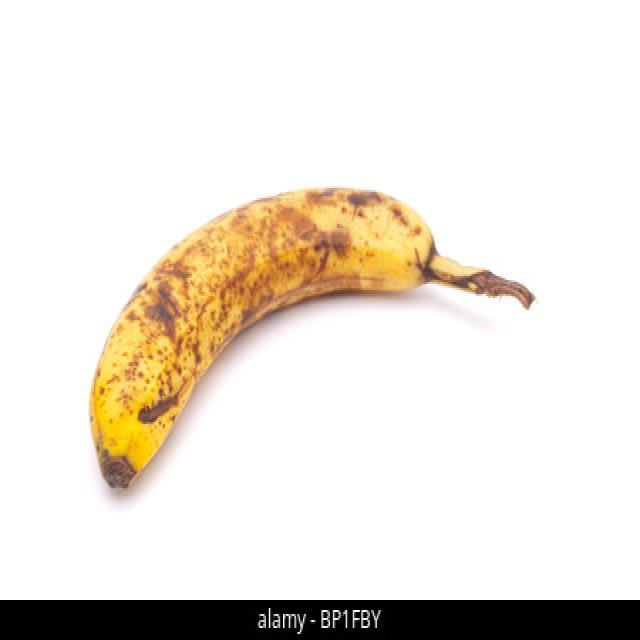overripe: (85, 175, 485, 494)
